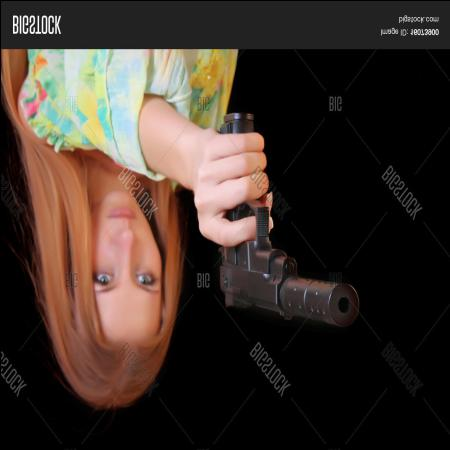Pistol: (216, 113, 360, 329)
